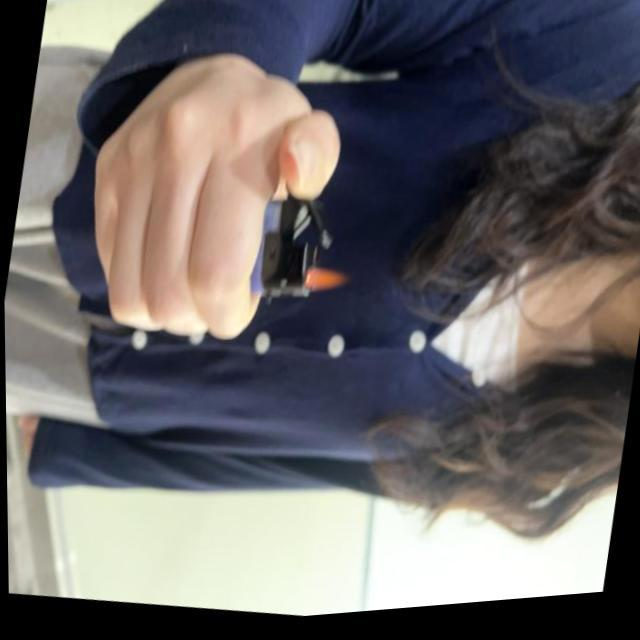fire: (304, 265, 348, 307)
